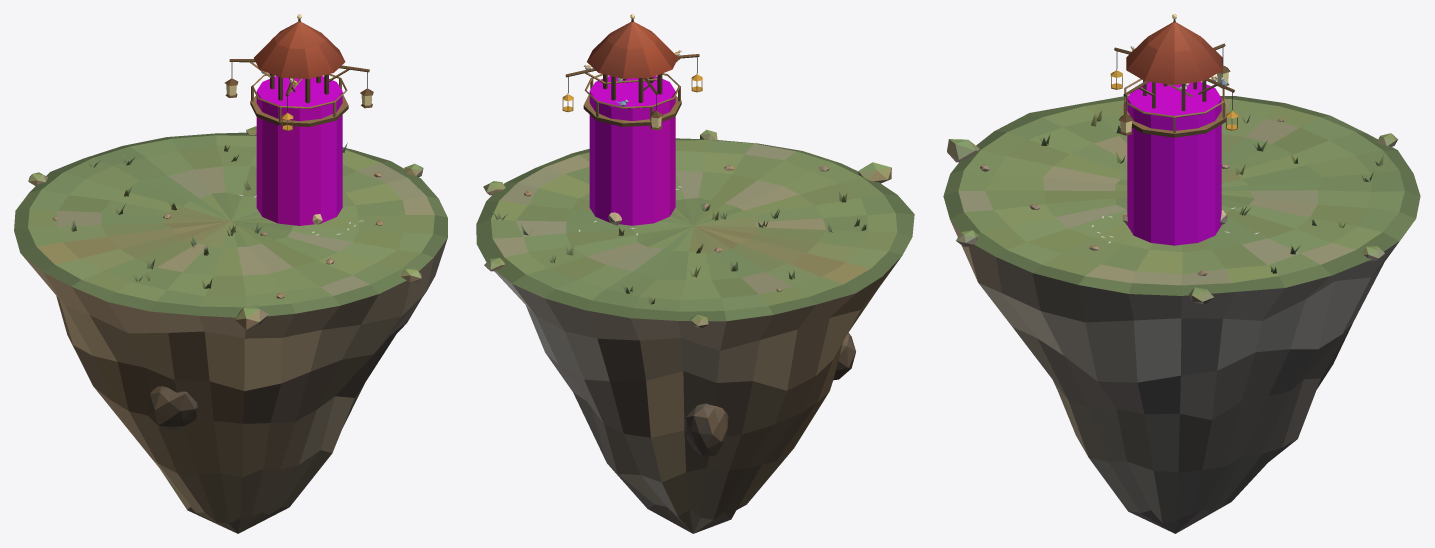
File: isle_roost.glb
3 views of the same model, side by side, from view 1: azimuth 30°, elevation 25°; view 2: azimuth 150°, elevation 25°; view 3: azimuth 270°, elevation 25° (orthographic). The views are drawn at different scales.
Visible parts, largest first — view 1: isle_roost, col_roost; view 2: isle_roost, col_roost; view 3: isle_roost, col_roost.
Boxes of the visible parts, left/top/right/bottom form: isle_roost: left=14, top=14, right=447, bottom=533; col_roost: left=256, top=76, right=342, bottom=225; isle_roost: left=476, top=14, right=914, bottom=533; col_roost: left=589, top=76, right=675, bottom=225; isle_roost: left=943, top=14, right=1420, bottom=533; col_roost: left=1127, top=81, right=1221, bottom=245.
Size of the model in its own units: 20.98 by 25.93 by 20.3.
